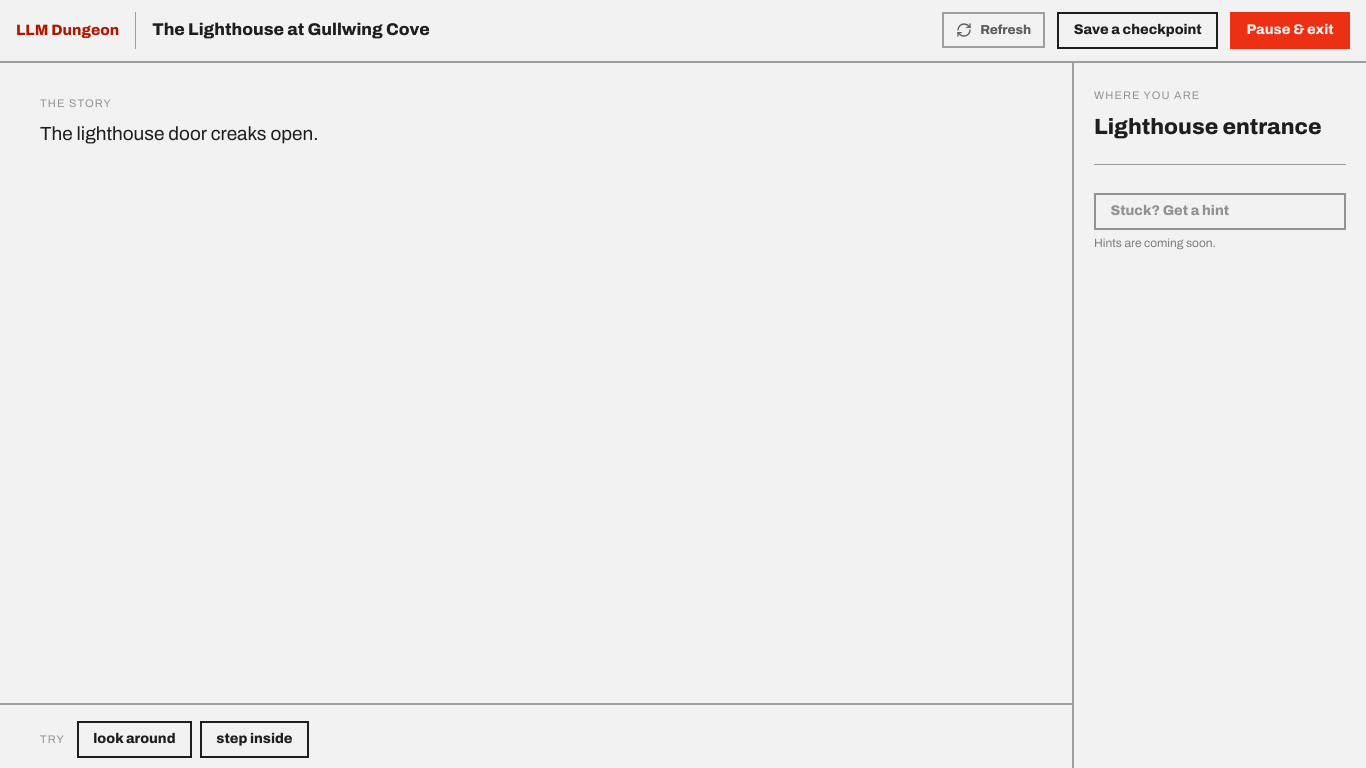
it: PlayPage (008-core-gameplay-done) › greys out the pause dialog and spins while the exit's checkpoint save is in flight
The image size is (1366, 768).
Click the button "Pause & exit": (1290, 30) [1230, 12, 1350, 49]
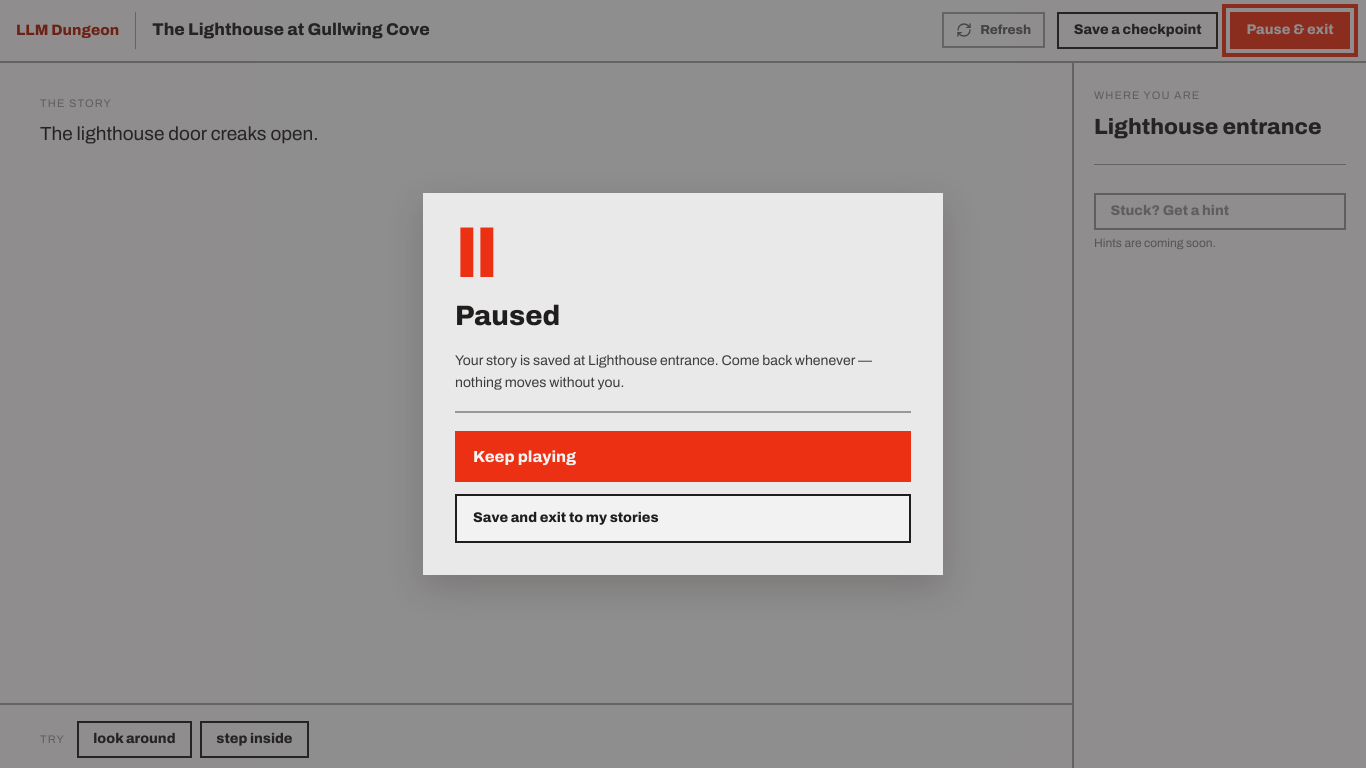
Click the button "Save and exit to my stories": (566, 518) [455, 494, 911, 543]
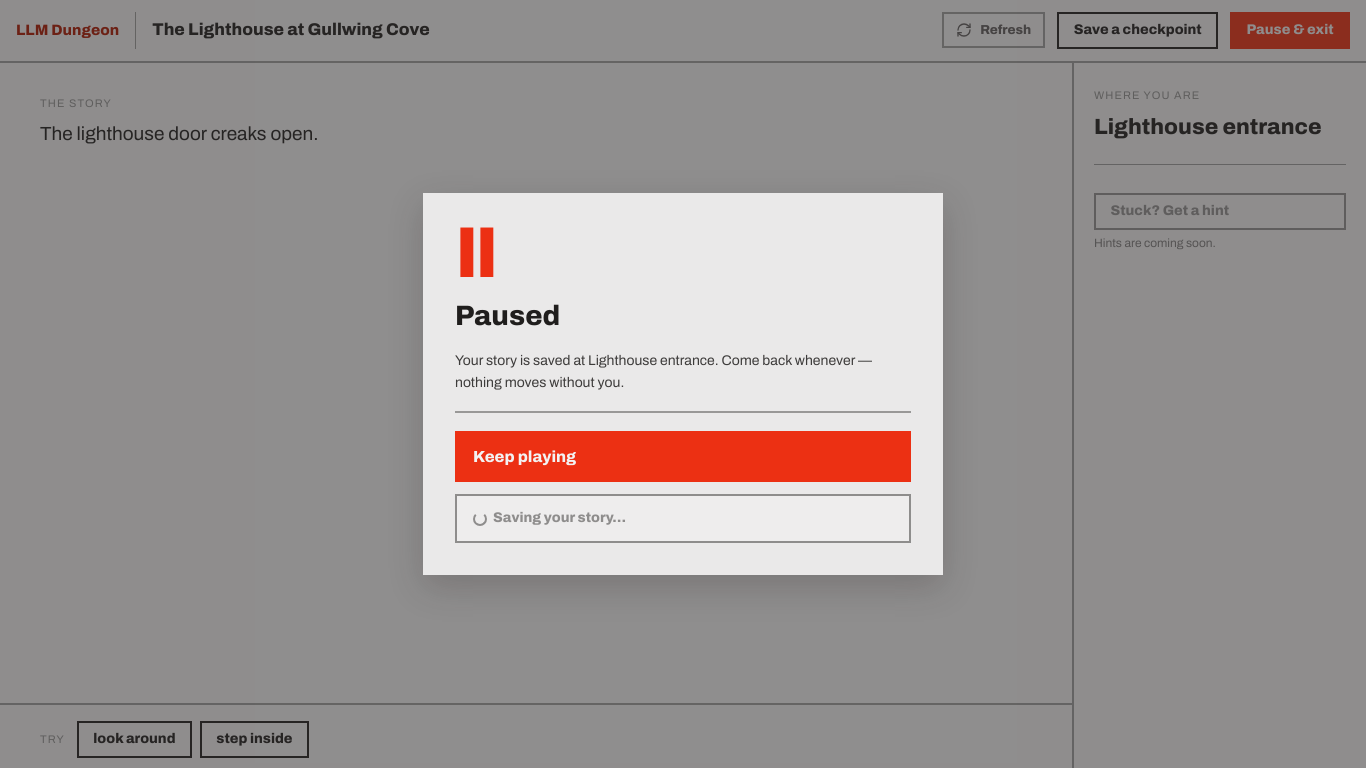
Check: the button "Keep playing" is enabled, box [455, 431, 911, 482]
Check: the button "Saving your story…" is disabled, box [455, 494, 911, 543]
